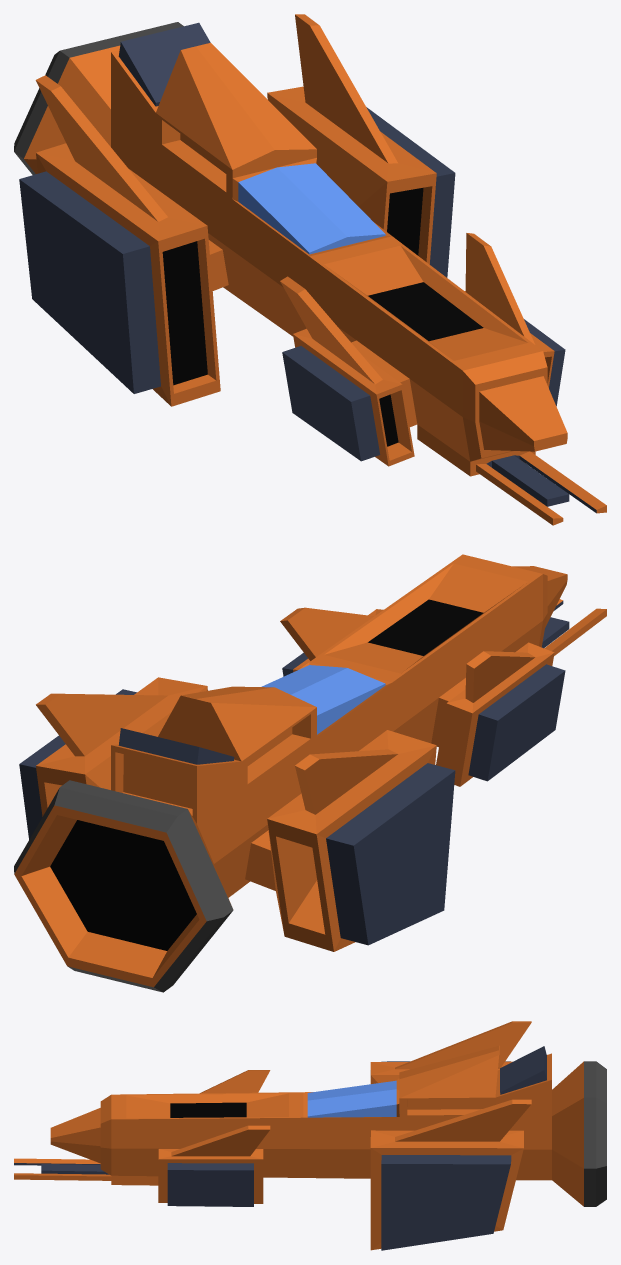
Rendered from ZenithHunter.fbx.
3 views of the same model, one above another, from view 1: azimuth 30°, elevation 25°; view 2: azimuth 150°, elevation 25°; view 3: azimuth 270°, elevation 25° (orthographic). The views are drawn at different scales.
Visible parts, largest first — view 1: ZenithHunter; view 2: ZenithHunter; view 3: ZenithHunter.
Boxes of the visible parts, x1=… form: ZenithHunter: x1=14, y1=14, x2=606, y2=525; ZenithHunter: x1=14, y1=554, x2=606, y2=992; ZenithHunter: x1=14, y1=1021, x2=606, y2=1250.
Bounding box in the file's own units: 14.01 × 10.17 × 33.89.
